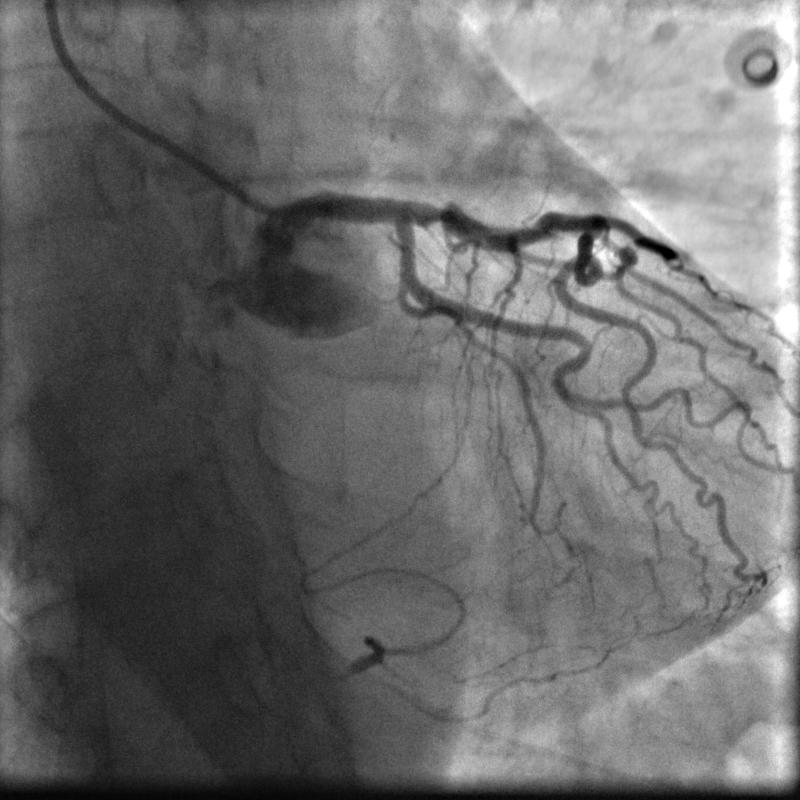Stenosis: (421, 197, 458, 230)
